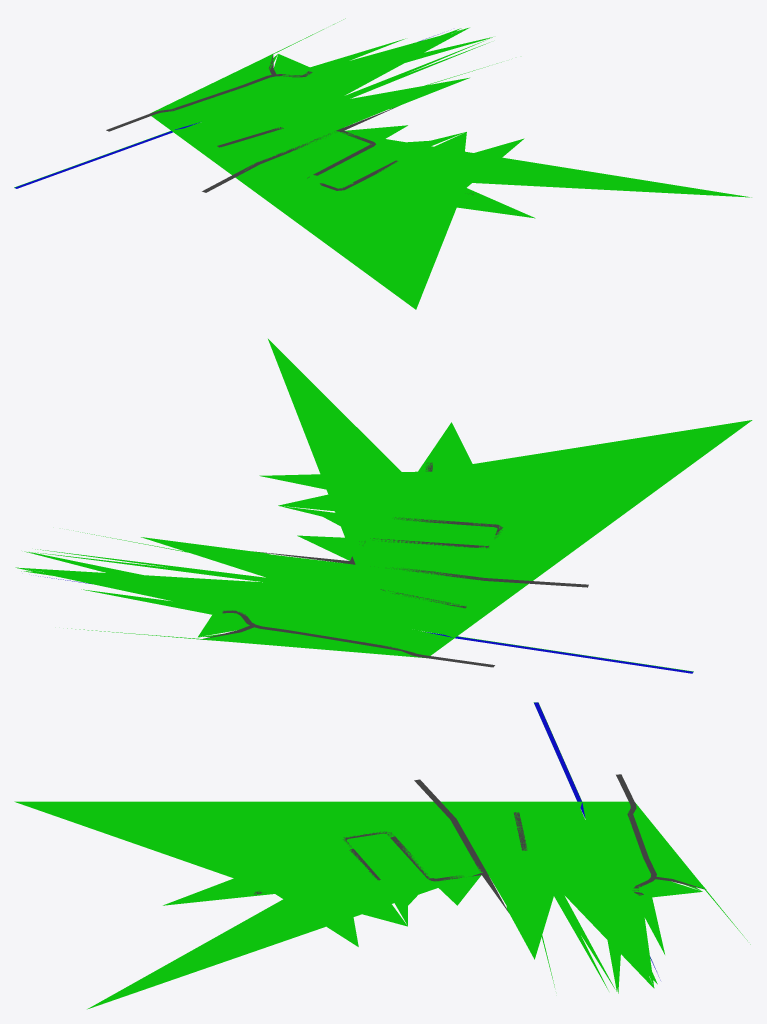
3 renders of one model, top to bottom at view 1: azimuth 30°, elevation 25°; view 2: azimuth 150°, elevation 25°; view 3: azimuth 270°, elevation 25°, orthographic. The views are drawn at different scales.
Bounding box in the file's own units: 444 × 0.2 × 450.
